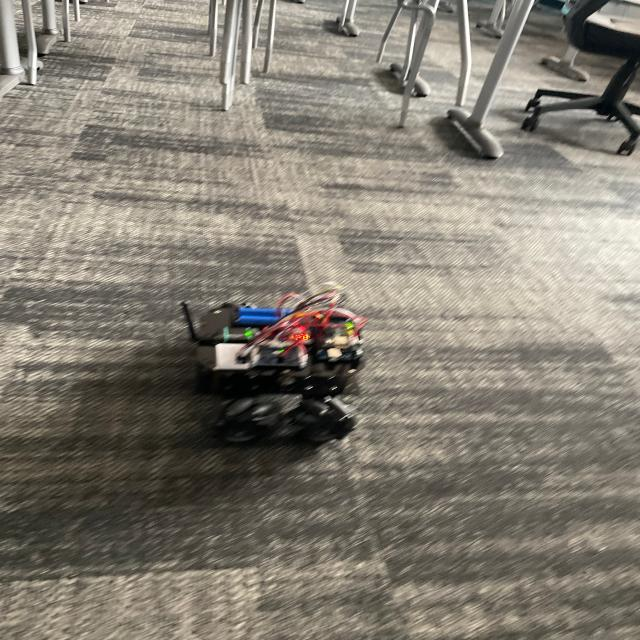ArduinoCar3: (178, 273, 379, 456)
